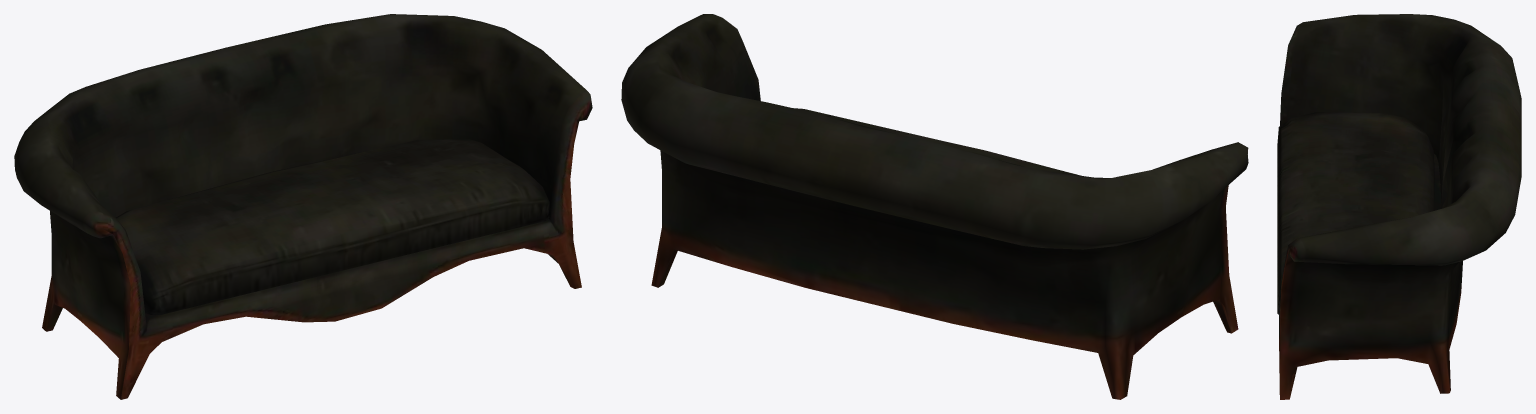
File: sofa_02.glb
3 renders of one model, left to right at view 1: azimuth 30°, elevation 25°; view 2: azimuth 150°, elevation 25°; view 3: azimuth 270°, elevation 25°, orthographic. The views are drawn at different scales.
Visible parts, largest first — view 1: sofa_02_Base; view 2: sofa_02_Base; view 3: sofa_02_Base.
Part boxes in pixels (bbox=[...]): sofa_02_Base: bbox=[14, 14, 592, 399]; sofa_02_Base: bbox=[621, 14, 1248, 399]; sofa_02_Base: bbox=[1277, 14, 1521, 399].
Bounding box in the file's own units: 1.81 × 0.7095 × 0.8121.
Materials: 1 (1 with a texture image).
